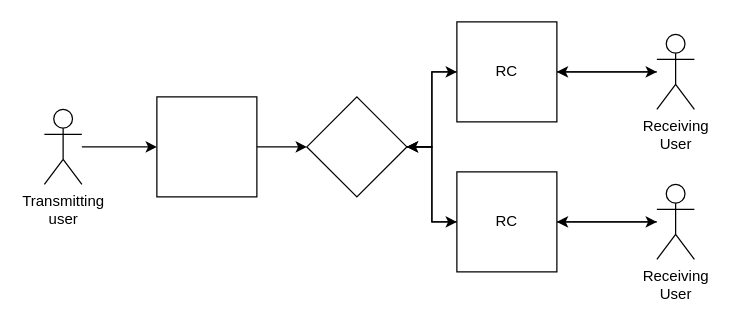
Image size: 730x326. Some labels were removed from this diagram. Here are the shapes that lost their labels. From the top down, the box of each, then its label:
(156, 96, 257, 197): TC
(306, 96, 407, 197): Server
